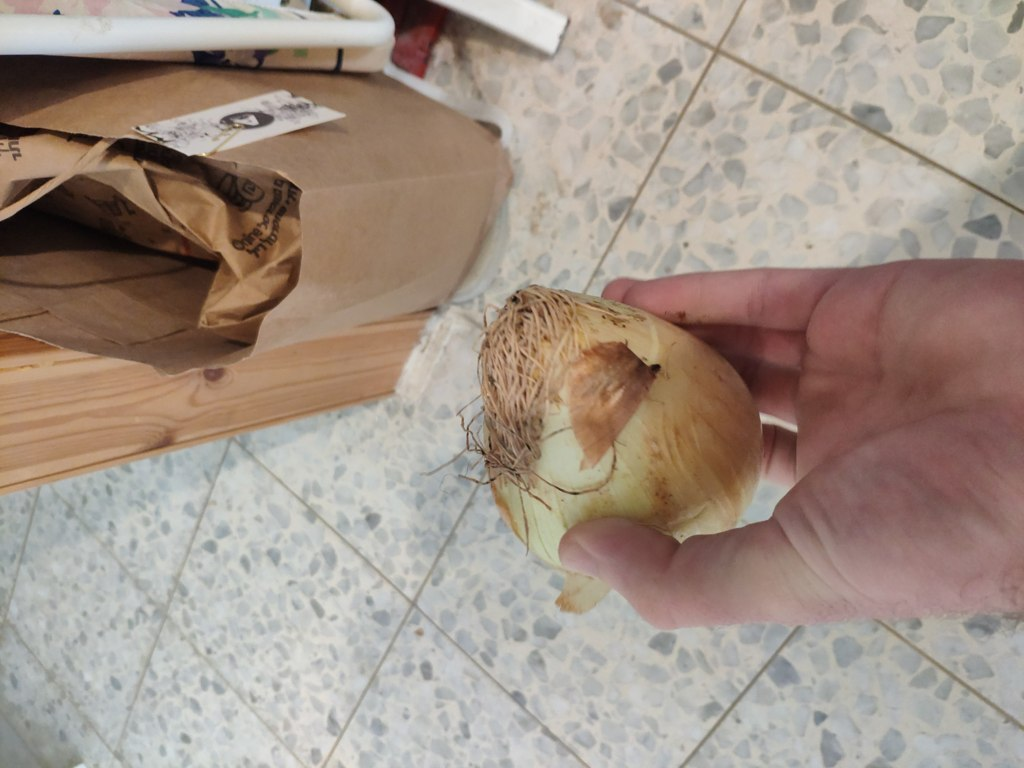Onion: (464, 282, 773, 593)
